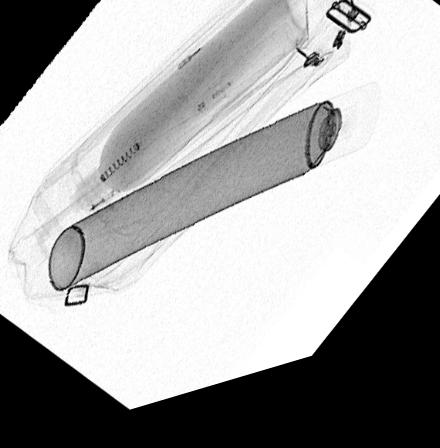Sprayer: (45, 100, 384, 297)
